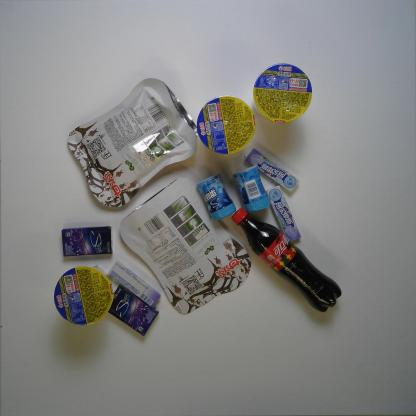Candy: (108, 257, 161, 309), (243, 148, 299, 192), (266, 182, 302, 244)
Dried Fruit: (119, 174, 252, 316), (66, 75, 201, 210)
Drink: (230, 206, 344, 314)
Gum: (105, 284, 160, 336), (195, 173, 237, 222), (231, 164, 271, 214), (61, 224, 112, 258)
Instant Noodles: (253, 60, 313, 123), (54, 264, 114, 327), (198, 96, 254, 155)
